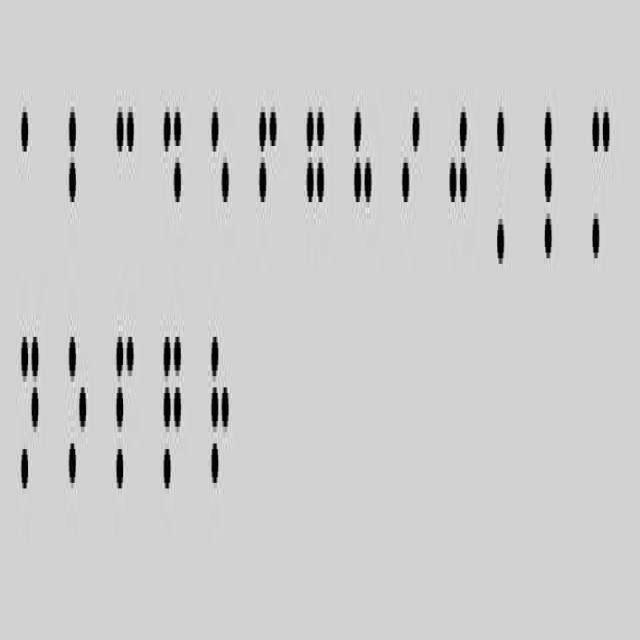braiile: (494, 90, 520, 292), (588, 81, 614, 278), (18, 309, 42, 511), (114, 314, 138, 516), (65, 317, 89, 514), (446, 93, 469, 289), (210, 320, 232, 511), (162, 328, 184, 514), (400, 90, 424, 258), (544, 87, 564, 284), (66, 104, 92, 255), (353, 86, 373, 272), (18, 98, 40, 250), (257, 104, 279, 255), (162, 98, 182, 261), (306, 104, 326, 267), (210, 98, 230, 250), (115, 104, 135, 255)
